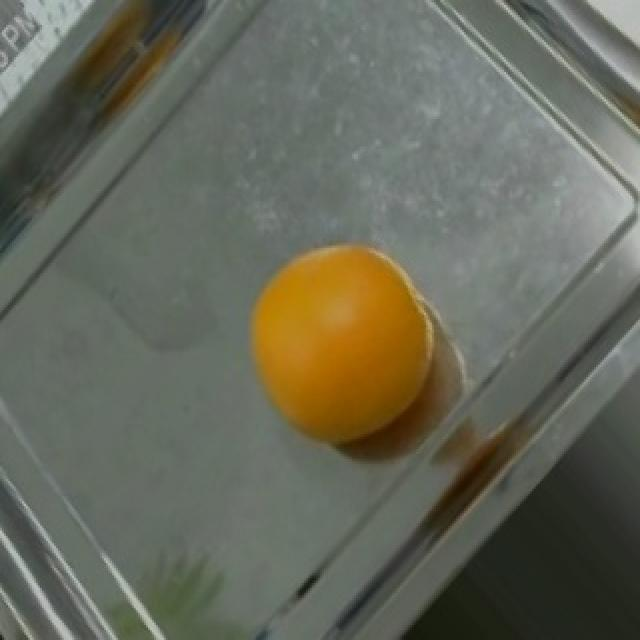Fruit: (228, 231, 460, 466)
